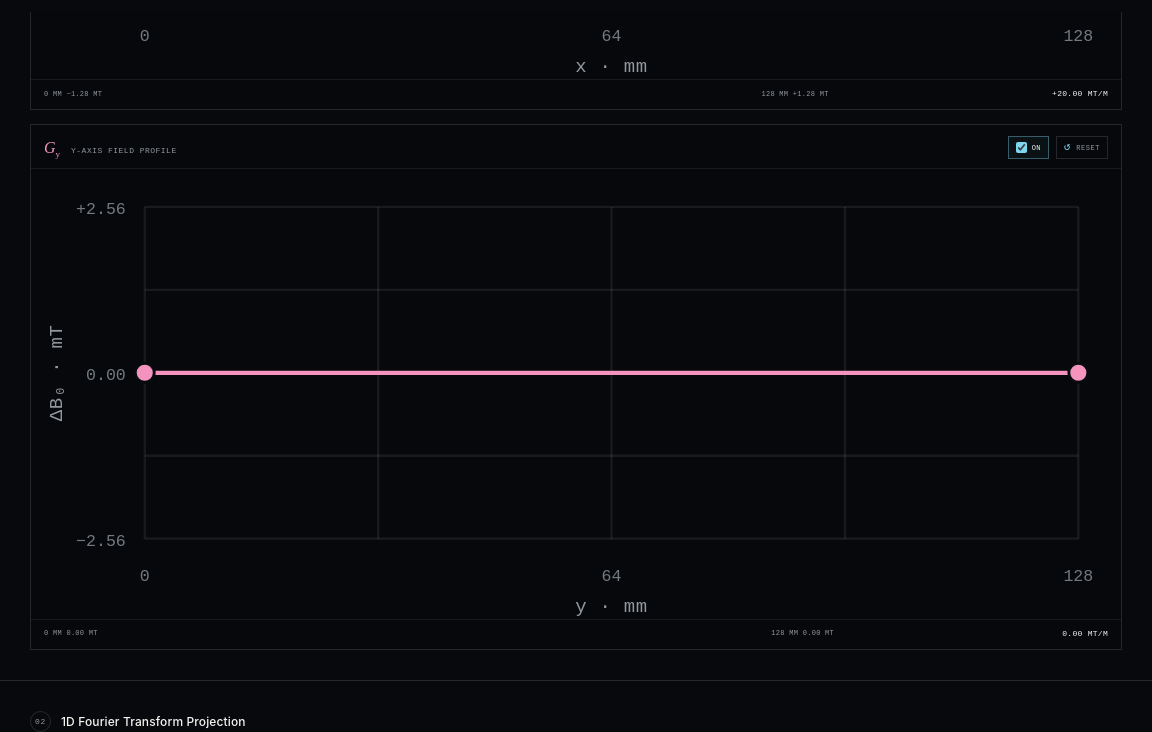
Test case: GradientEncodingExperimentPanel › accumulates distinct gradient angles and can reset the backprojection
The width and height of the screenshot is (1152, 732).
(page scrolled)
Press ArrowUp in the slider labelled "G y gradient 128 millimeter endpoint", box left=1048, top=342, right=1109, bottom=403
(page scrolled)
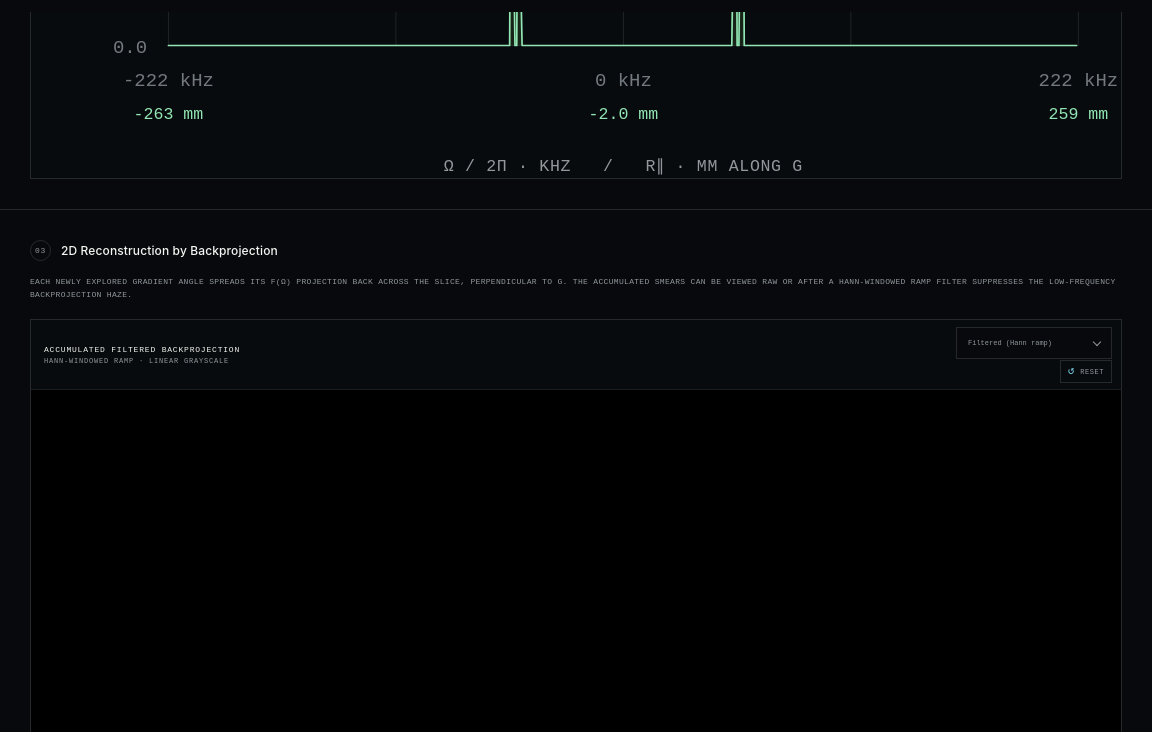
Click the button with aria-label "Reset backprojection reconstruction" at (1086,372), box left=1060, top=360, right=1112, bottom=383
(page scrolled)
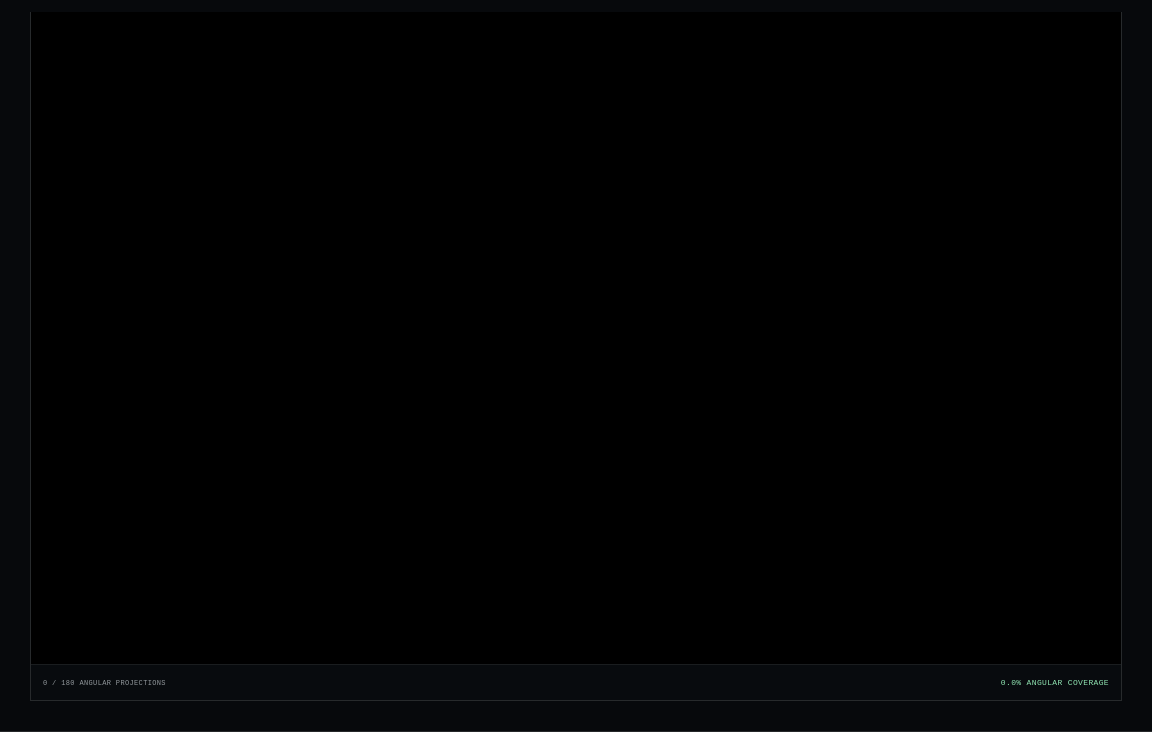
Check: the text "0 / 180 angular projections" is shown, box left=43, top=679, right=166, bottom=687
